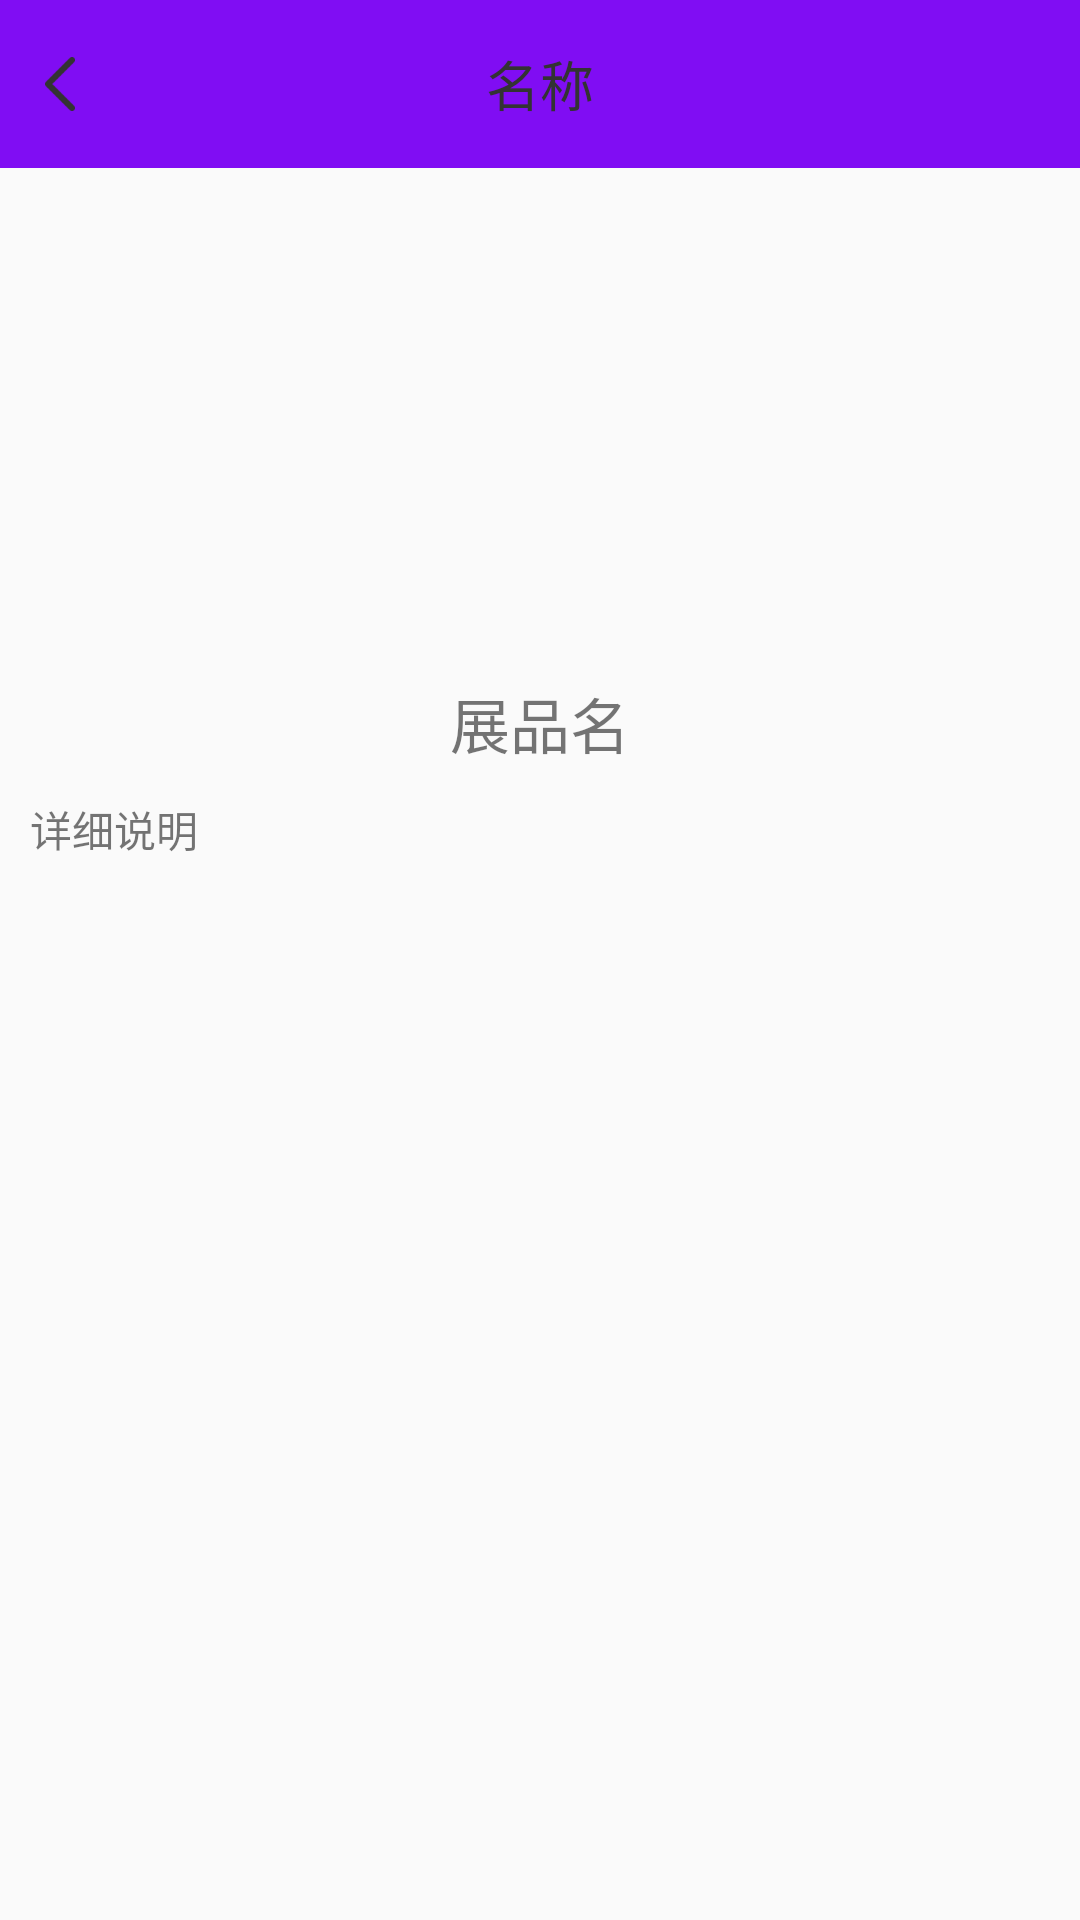

Screen size 1080×1920. Icon name, then its center in pixels as (x=x, y=y):
back: (x=60, y=84)
